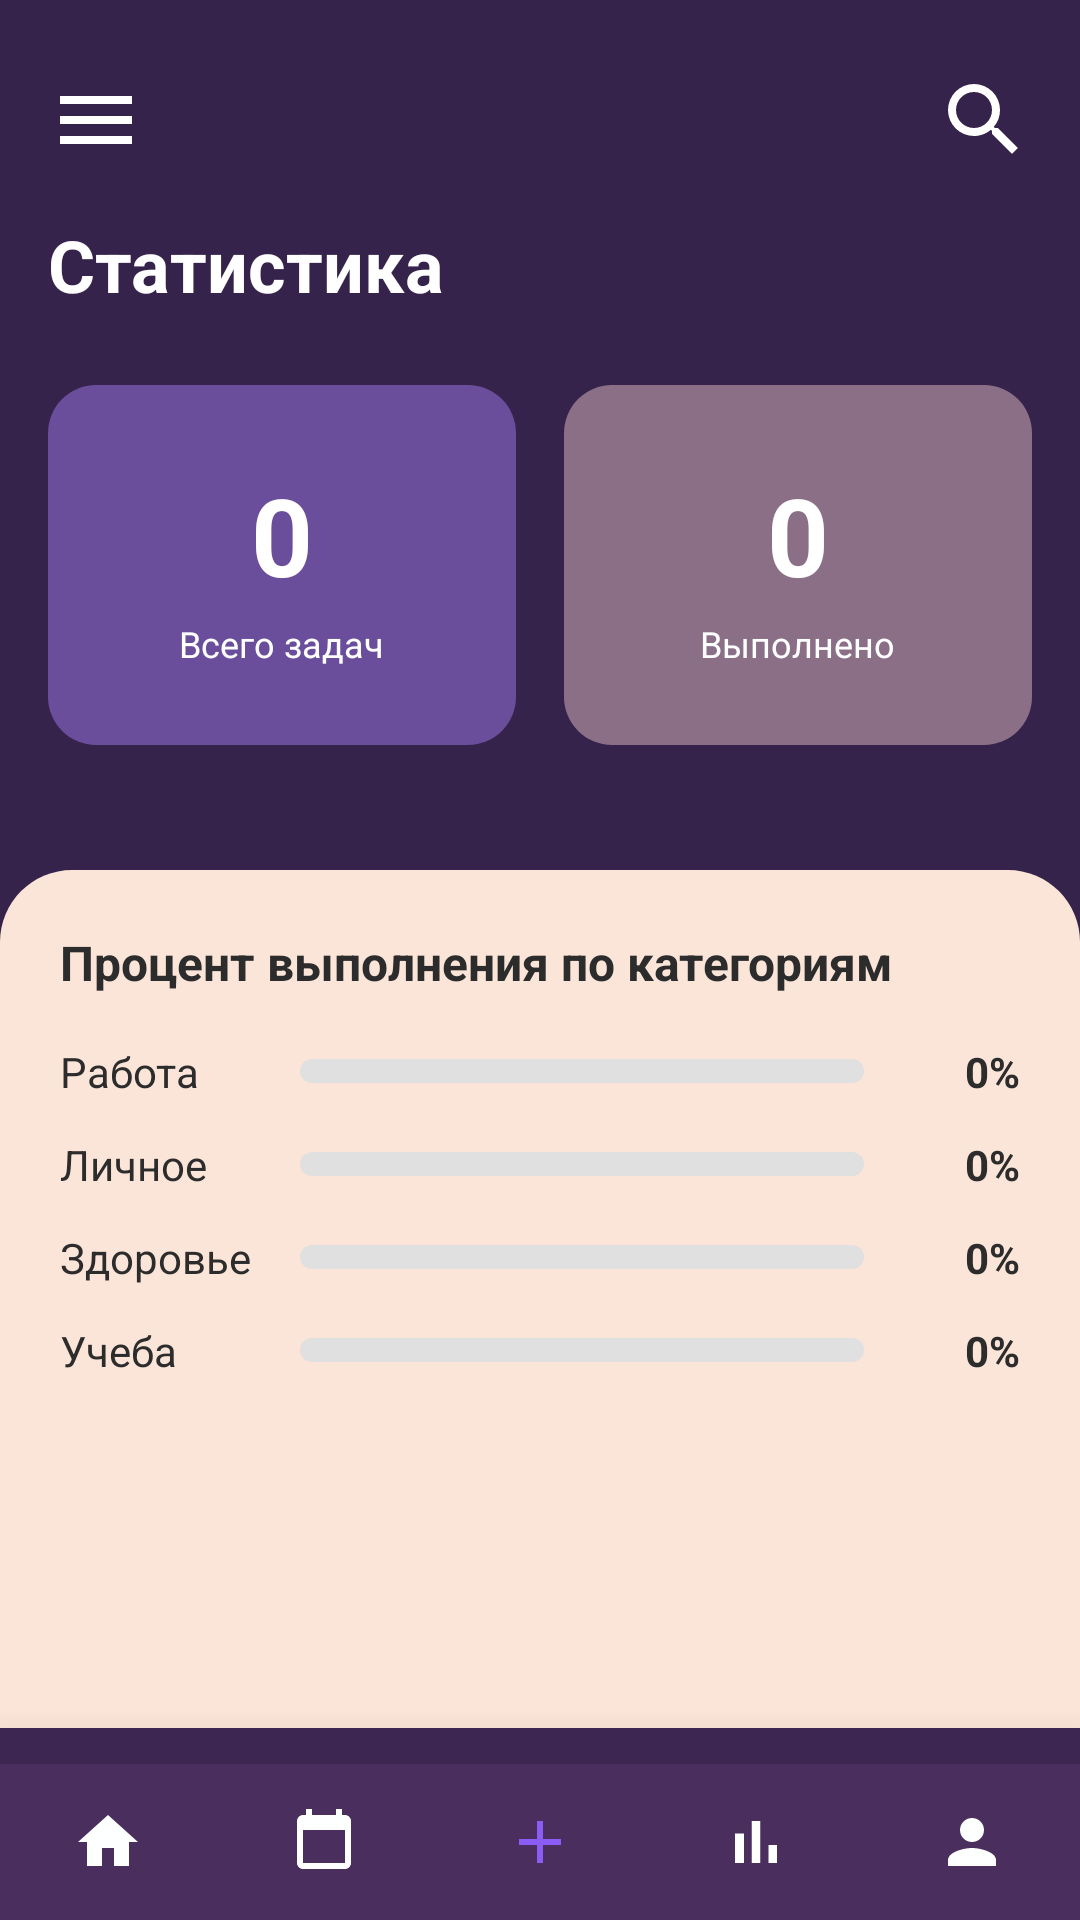

Point at icon controls on the screen. Image size 1080px×1920px, points as (x,y).
Add: (540,1842)
Calendar: (324,1839)
Chart: (756,1842)
Home: (108,1840)
Menu: (96,120)
Profile: (972,1842)
Search: (983,119)
